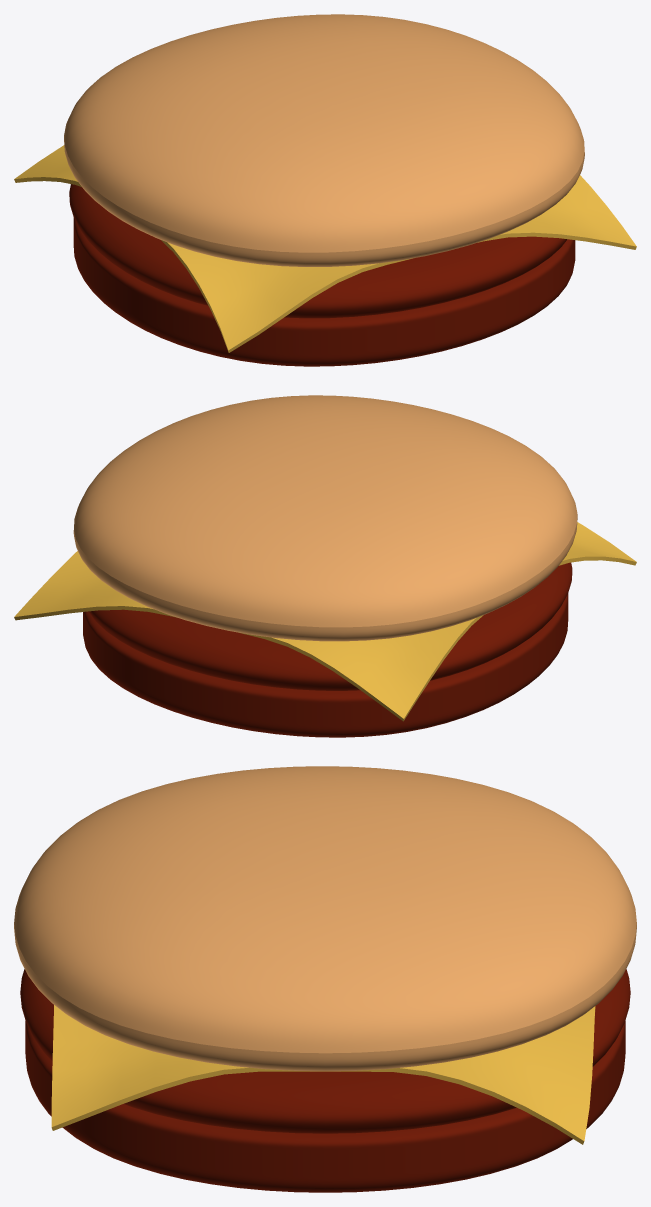
The model's file is hamburger.glb.
3 renders of one model, top to bottom at view 1: azimuth 30°, elevation 25°; view 2: azimuth 150°, elevation 25°; view 3: azimuth 270°, elevation 25°, orthographic. The views are drawn at different scales.
Parts seen in each view (by area): view 1: Cube.003, Cube, Cube.001, Plane; view 2: Cube.003, Cube, Cube.001, Plane; view 3: Cube.003, Cube, Cube.001, Plane.
Part boxes in pixels (box(x1,y1,x2,y2)): Cube.003: box(64, 14, 584, 266); Cube: box(73, 217, 575, 366); Cube.001: box(69, 184, 567, 318); Plane: box(14, 145, 636, 352); Cube.003: box(73, 395, 577, 641); Cube: box(83, 593, 568, 737); Cube.001: box(88, 562, 572, 690); Plane: box(14, 522, 636, 721); Cube.003: box(14, 766, 636, 1071); Cube: box(25, 1021, 625, 1192); Cube.001: box(20, 969, 630, 1133); Plane: box(51, 1005, 595, 1144).
Size of the model in its own units: 9.63 by 4.28 by 9.63.
